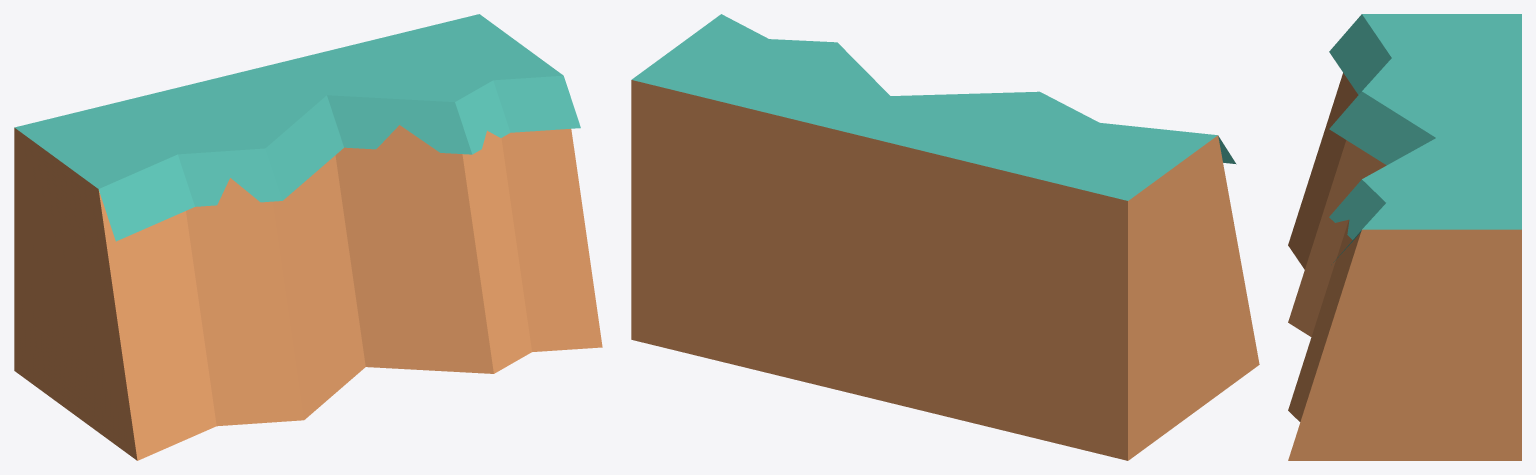
File: cliffBrown_half.fbx
3 views of the same model, side by side, from view 1: azimuth 30°, elevation 25°; view 2: azimuth 150°, elevation 25°; view 3: azimuth 270°, elevation 25° (orthographic). The views are drawn at different scales.
Parts seen in each view (by area): view 1: cliffBrown_half; view 2: cliffBrown_half; view 3: cliffBrown_half.
Boxes of the visible parts, left/top/right/bottom form: cliffBrown_half: left=14, top=14, right=602, bottom=460; cliffBrown_half: left=631, top=14, right=1259, bottom=460; cliffBrown_half: left=1288, top=14, right=1521, bottom=460.
Size of the model in its own units: 10 by 5 by 4.58.
